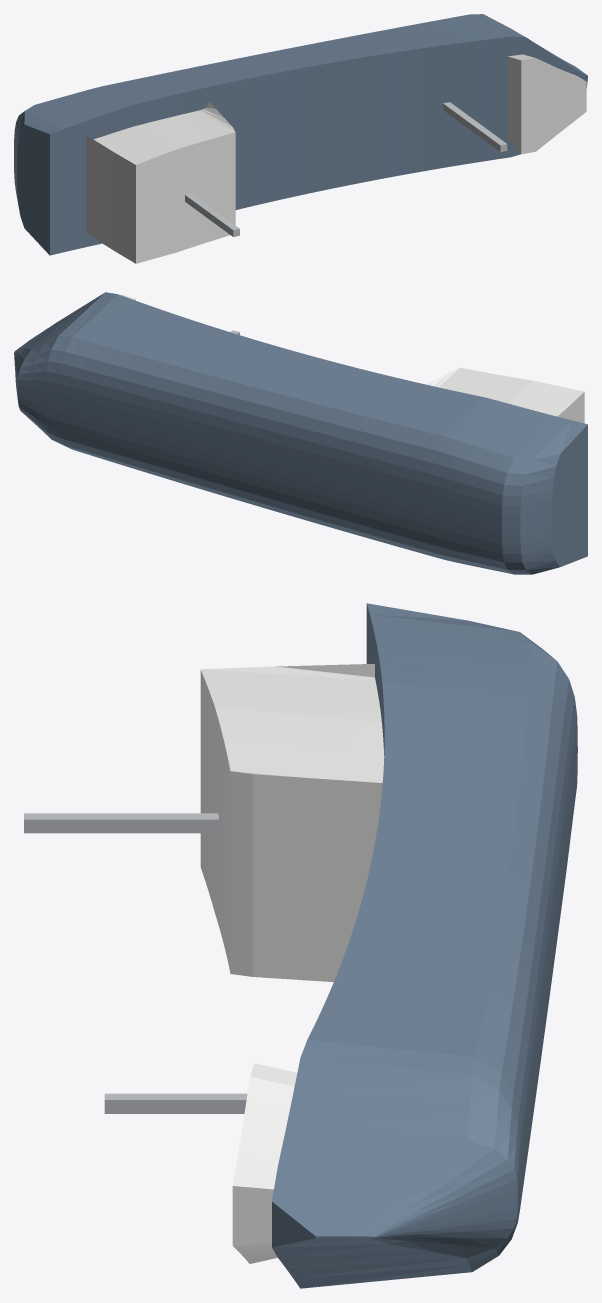
Rendered from loft-aground-sheered.glb.
3 views of the same model, one above another, from view 1: azimuth 30°, elevation 25°; view 2: azimuth 150°, elevation 25°; view 3: azimuth 270°, elevation 25° (orthographic). The views are drawn at different scales.
Parts seen in each view (by area): view 1: loft-aground-sheered; view 2: loft-aground-sheered; view 3: loft-aground-sheered.
Part boxes in pixels (bbox=[...]): loft-aground-sheered: bbox=[14, 14, 587, 263]; loft-aground-sheered: bbox=[14, 292, 587, 574]; loft-aground-sheered: bbox=[24, 603, 577, 1288].
Size of the model in its own units: 1.92 by 0.4615 by 0.8762.
